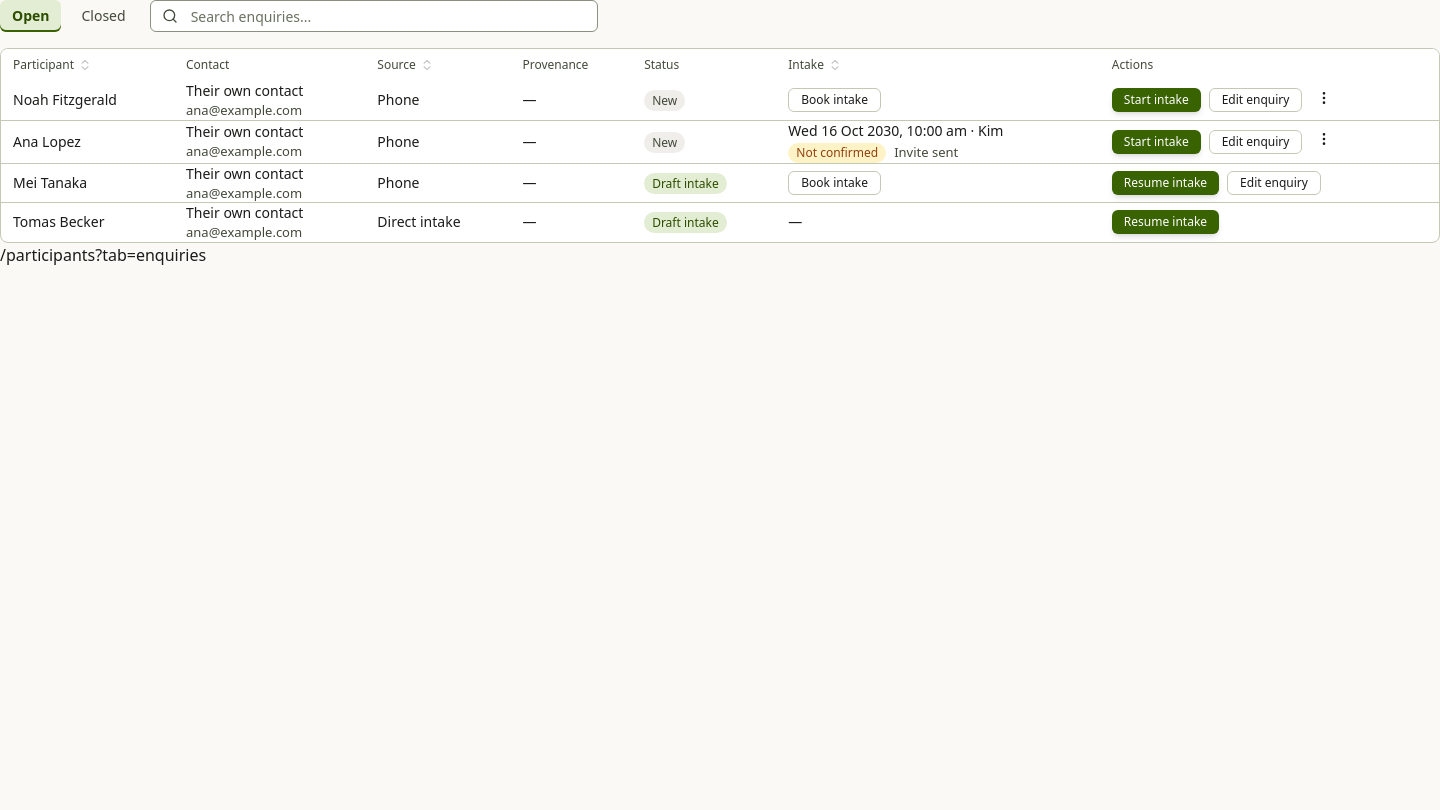
Test: closing an enquiry from the table › Close needs an outcome
Click the button named "More actions for Noah Fitzgerald" at (1324, 98), box [1310,84,1338,112]
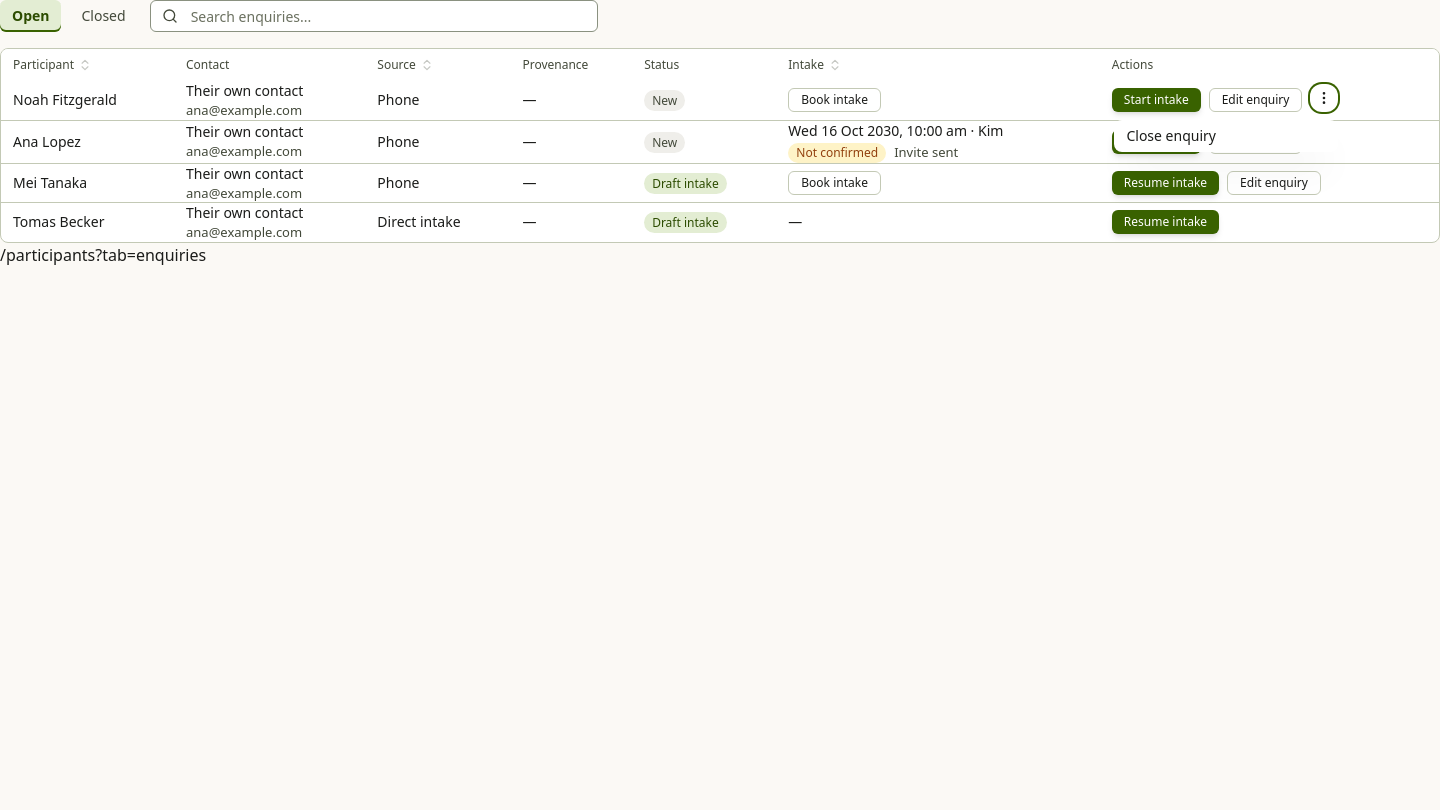
Click the option "Close enquiry" at (1171, 135), box [1126,126,1216,145]
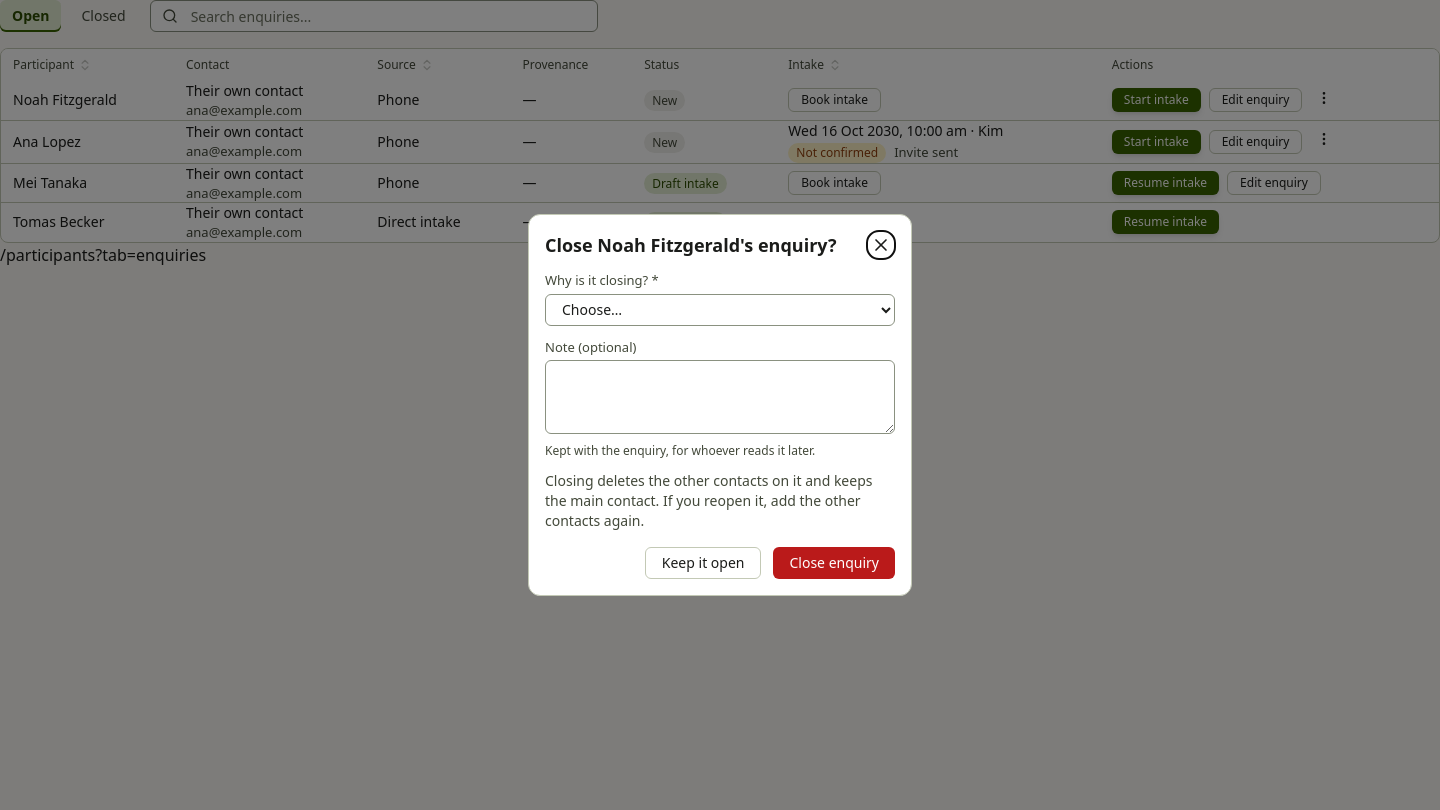
Click the button "Close enquiry" at (834, 563), box [774,547,895,579]
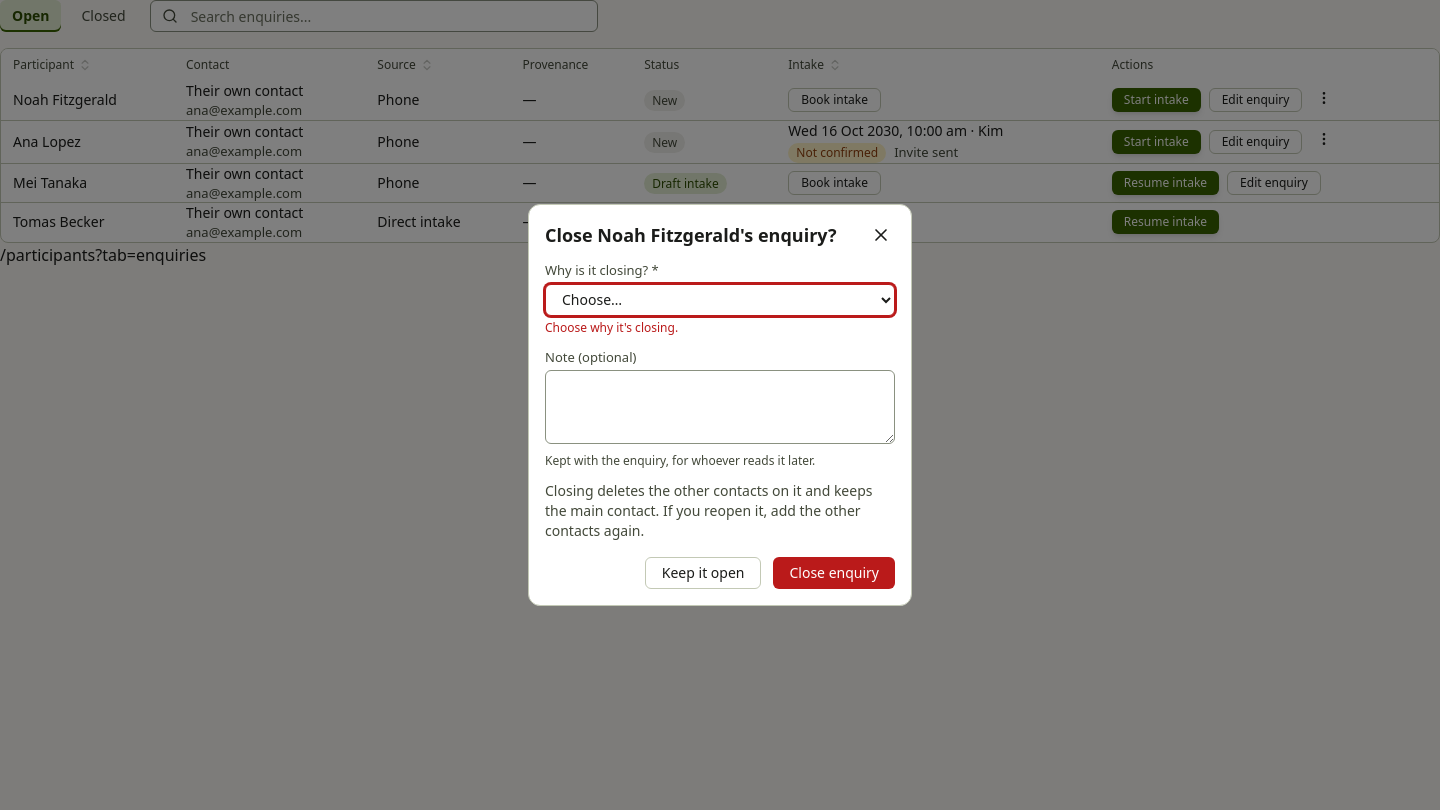
Now the text "Choose why it's closing." is shown, box [545,318,678,336]
